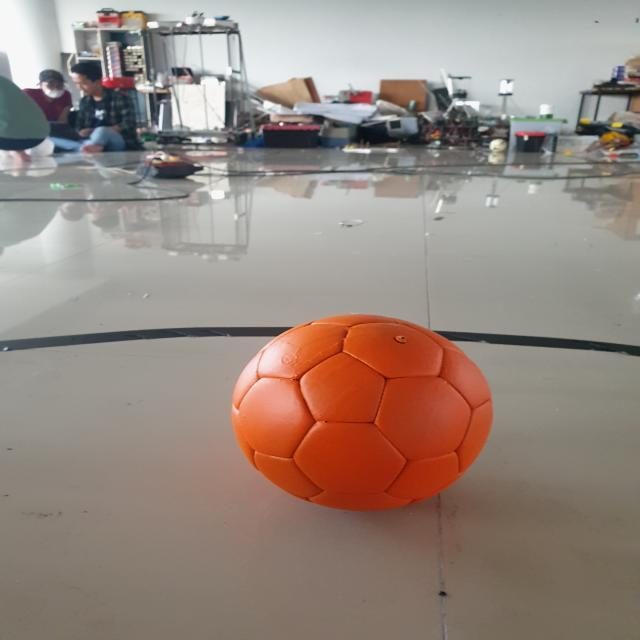bola: (188, 280, 526, 533)
